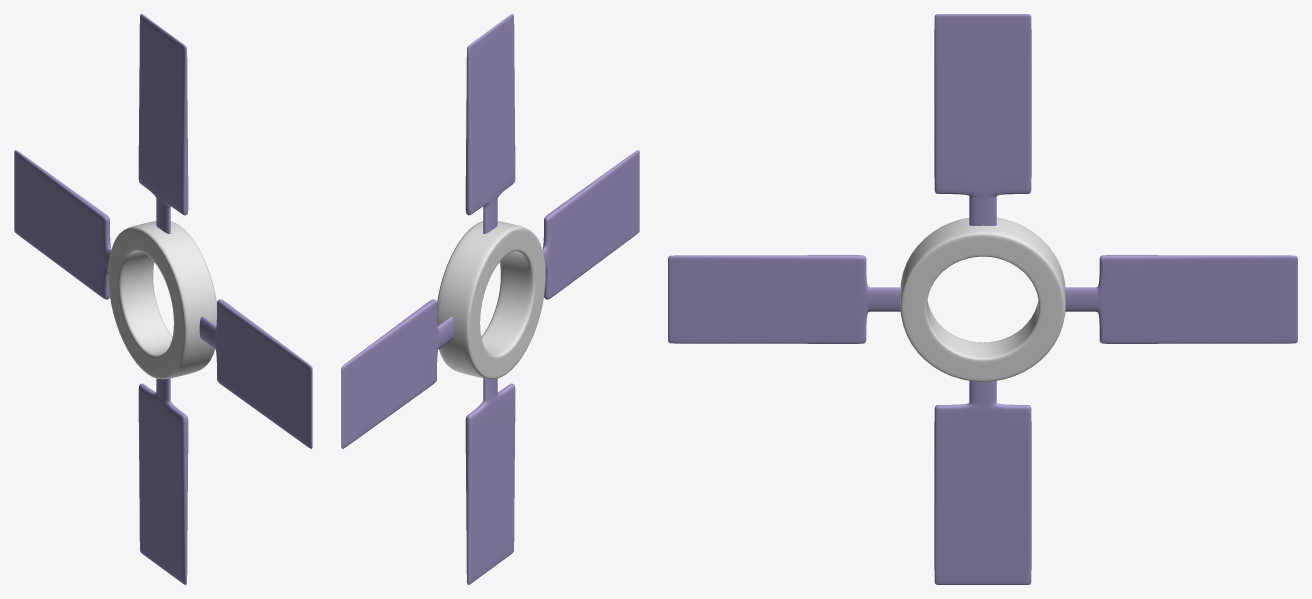
The model's file is smpfnfn.fbx.
3 renders of one model, left to right at view 1: azimuth 30°, elevation 25°; view 2: azimuth 150°, elevation 25°; view 3: azimuth 270°, elevation 25°, orthographic. The views are drawn at different scales.
Parts seen in each view (by area): view 1: Cylinder.003, Cube.002, Cube.006, Cube.008, Cube.007; view 2: Cylinder.003, Cube.002, Cube.006, Cube.007, Cube.008; view 3: Cube.002, Cube.008, Cube.007, Cube.006, Cylinder.003.
Boxes of the visible parts, x1,y1,x2,y2 form: Cylinder.003: [108, 221, 216, 379]; Cube.002: [138, 14, 188, 233]; Cube.006: [138, 378, 188, 584]; Cube.008: [199, 299, 312, 448]; Cube.007: [14, 150, 111, 299]; Cylinder.003: [437, 221, 545, 379]; Cube.002: [465, 14, 515, 233]; Cube.006: [465, 378, 515, 584]; Cube.007: [341, 299, 454, 448]; Cube.008: [542, 150, 639, 299]; Cube.002: [934, 14, 1031, 225]; Cube.008: [668, 255, 900, 343]; Cube.007: [1065, 255, 1297, 343]; Cube.006: [934, 380, 1031, 584]; Cylinder.003: [900, 218, 1065, 381].
Bounding box in the file's own units: 35.61 × 540 × 540.
